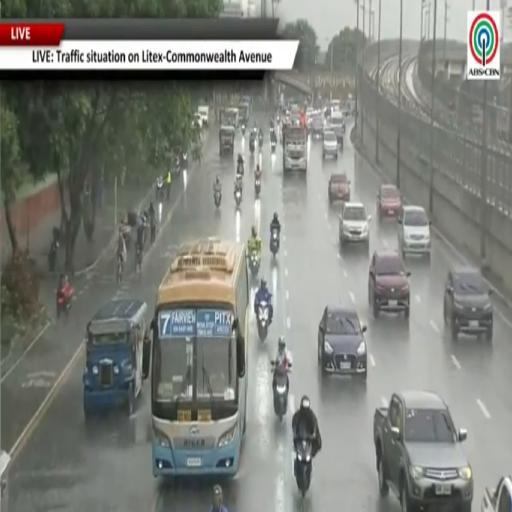bus: (152, 238, 249, 476)
car: (444, 268, 493, 341), (318, 306, 367, 378), (369, 250, 410, 319), (398, 205, 431, 260), (339, 202, 371, 251), (376, 184, 402, 220), (328, 173, 350, 203), (323, 131, 338, 159), (310, 116, 323, 138), (192, 114, 202, 129)
jeepney: (83, 299, 147, 419), (0, 451, 10, 511), (219, 125, 235, 155), (222, 107, 239, 129), (239, 102, 250, 127)
motorcycle: (272, 361, 291, 421), (295, 438, 314, 497), (48, 227, 61, 273), (256, 301, 270, 342), (57, 285, 74, 317), (48, 239, 59, 273), (249, 251, 260, 277), (270, 229, 279, 258), (121, 223, 131, 249), (135, 245, 143, 273), (156, 176, 164, 200), (180, 152, 188, 170), (236, 162, 245, 177), (214, 190, 221, 209), (235, 189, 241, 209), (255, 179, 260, 198), (249, 138, 255, 153), (271, 139, 276, 152), (241, 124, 246, 136), (259, 135, 263, 148)
truck: (373, 391, 473, 511), (283, 125, 307, 172), (481, 476, 511, 511), (330, 112, 345, 148)
